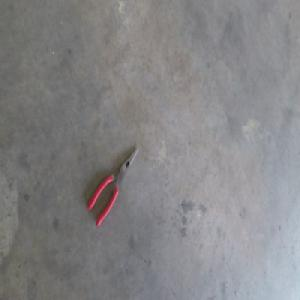Pliers: (88, 145, 139, 224)
